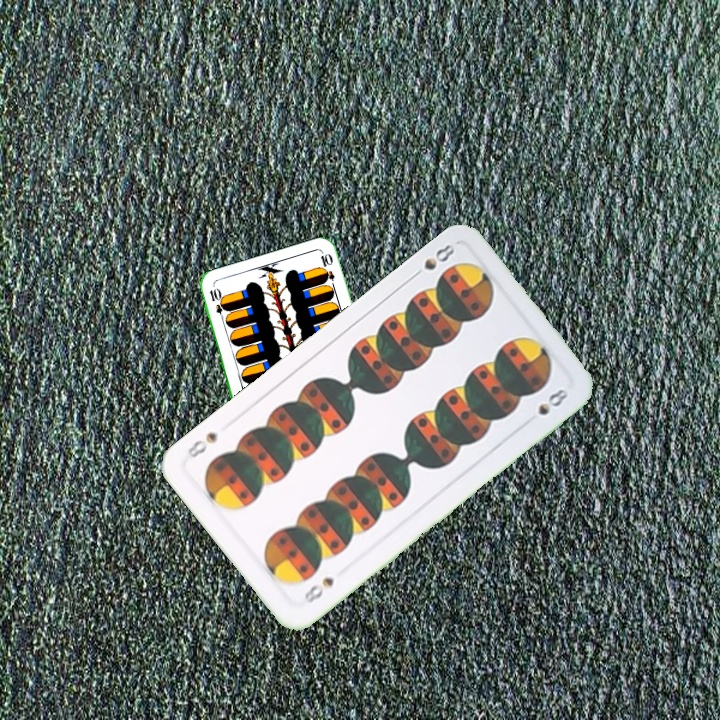E10: (205, 285, 228, 324)
S8: (407, 240, 458, 281), (298, 573, 337, 607)
